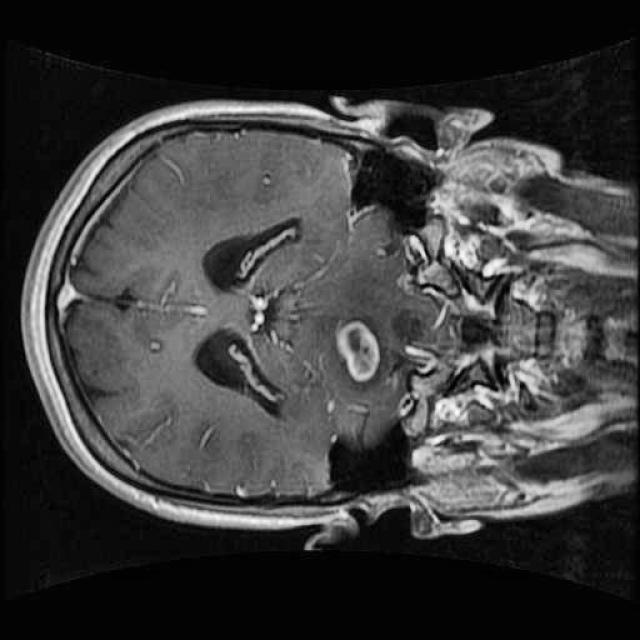Non-Tumor: (328, 308, 395, 390)
